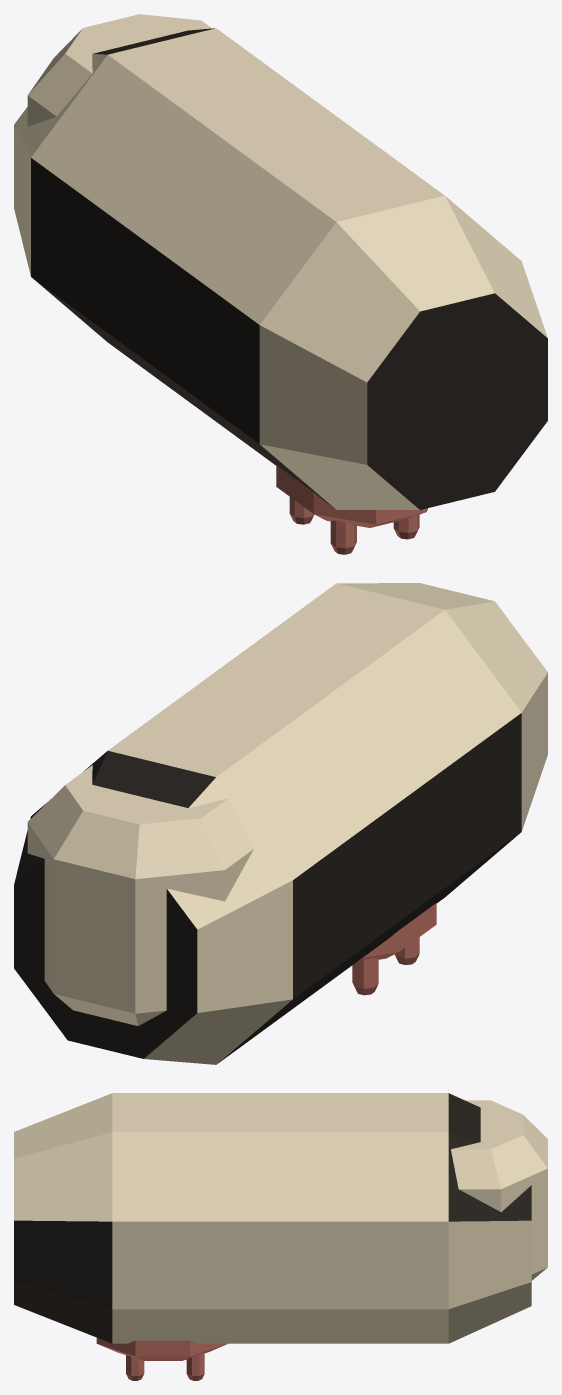
Rendered from cow-spotted-body.obj.
3 views of the same model, one above another, from view 1: azimuth 30°, elevation 25°; view 2: azimuth 150°, elevation 25°; view 3: azimuth 270°, elevation 25° (orthographic). The views are drawn at different scales.
Parts seen in each view (by area): view 1: cow-spotted-body; view 2: cow-spotted-body; view 3: cow-spotted-body.
Part boxes in pixels (left/top/right/bottom): cow-spotted-body: left=14, top=14, right=547, bottom=554; cow-spotted-body: left=14, top=583, right=547, bottom=1064; cow-spotted-body: left=14, top=1093, right=547, bottom=1380.
Size of the model in its own units: 0.8082 by 1.02 by 1.94.
